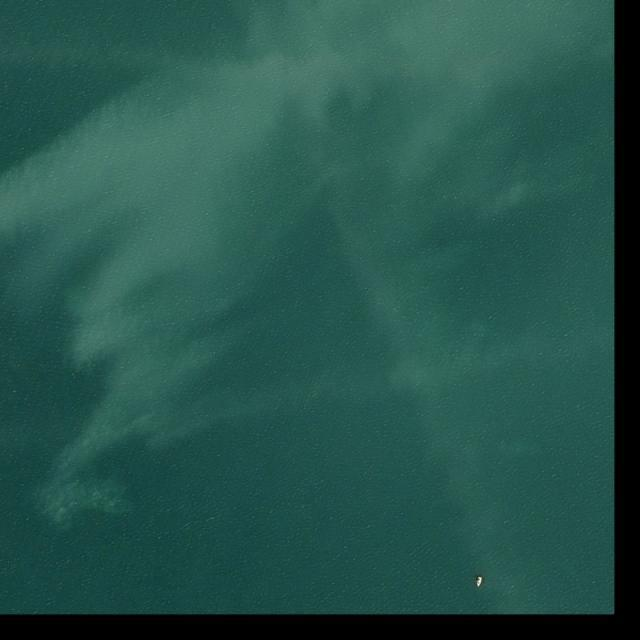ship: (476, 577, 483, 589)
